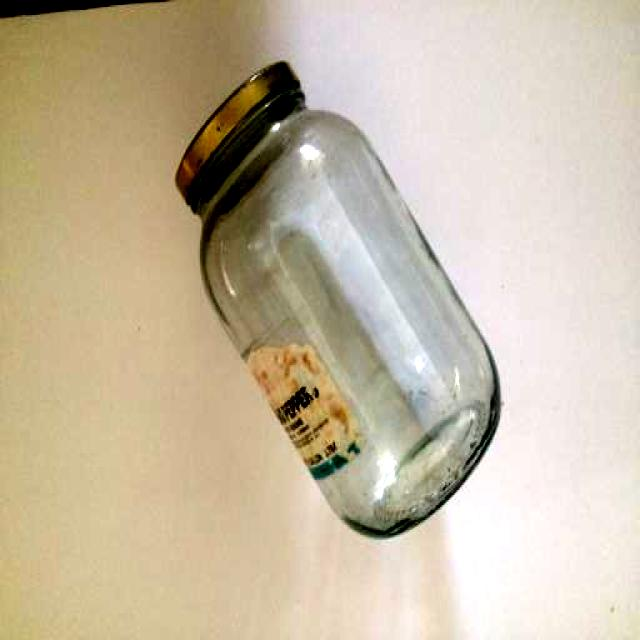Glass: (172, 47, 510, 559)
Metal: (166, 54, 307, 212)
